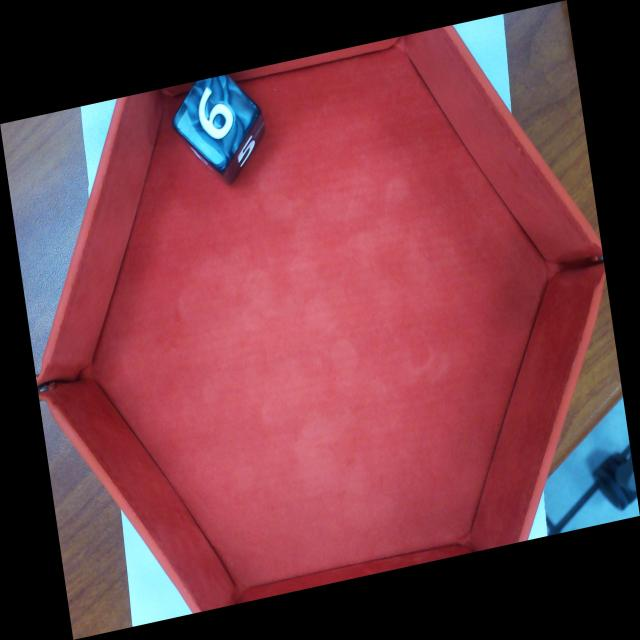dice: (179, 76, 257, 161)
